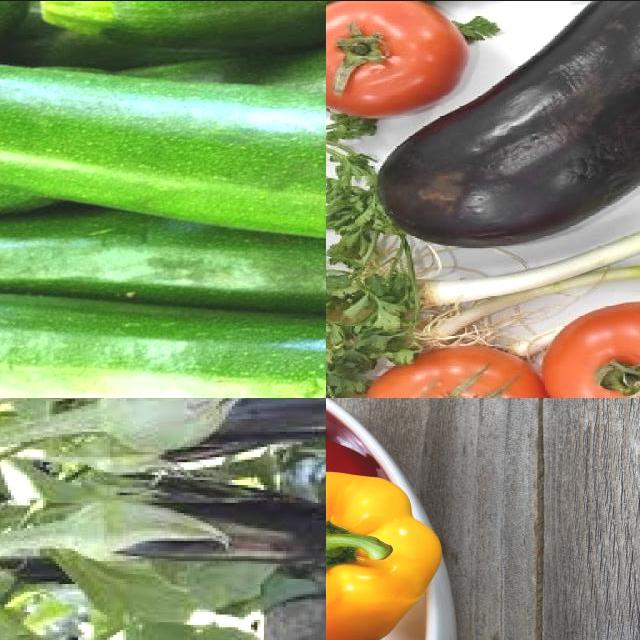bell_pepper: (327, 470, 454, 640)
eggplant: (376, 1, 640, 245), (66, 503, 327, 572)
tomato: (327, 1, 466, 110), (539, 297, 640, 398), (355, 354, 529, 398)
zucchini: (1, 254, 327, 398)
